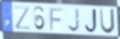6: (33, 6, 45, 32)
F: (49, 7, 64, 32)
J: (84, 8, 99, 34), (67, 8, 81, 33)
U: (99, 7, 116, 35)
Z: (14, 6, 30, 31)
